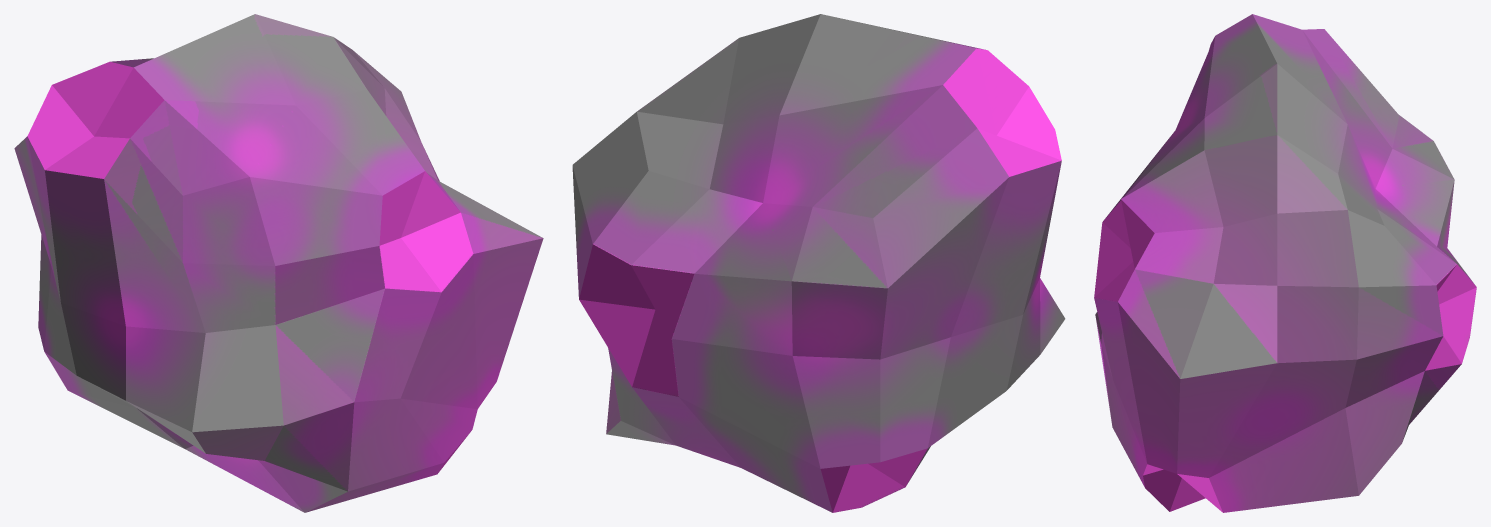
Rendered from PurpleAsteroid.fbx.
3 views of the same model, side by side, from view 1: azimuth 30°, elevation 25°; view 2: azimuth 150°, elevation 25°; view 3: azimuth 270°, elevation 25° (orthographic). The views are drawn at different scales.
Visible parts, largest first — view 1: Cube; view 2: Cube; view 3: Cube.
Part boxes in pixels (bbox=[...]): Cube: bbox=[14, 14, 543, 512]; Cube: bbox=[572, 14, 1065, 512]; Cube: bbox=[1094, 14, 1476, 512].
Bounding box in the file's own units: 595 × 578 × 488.
